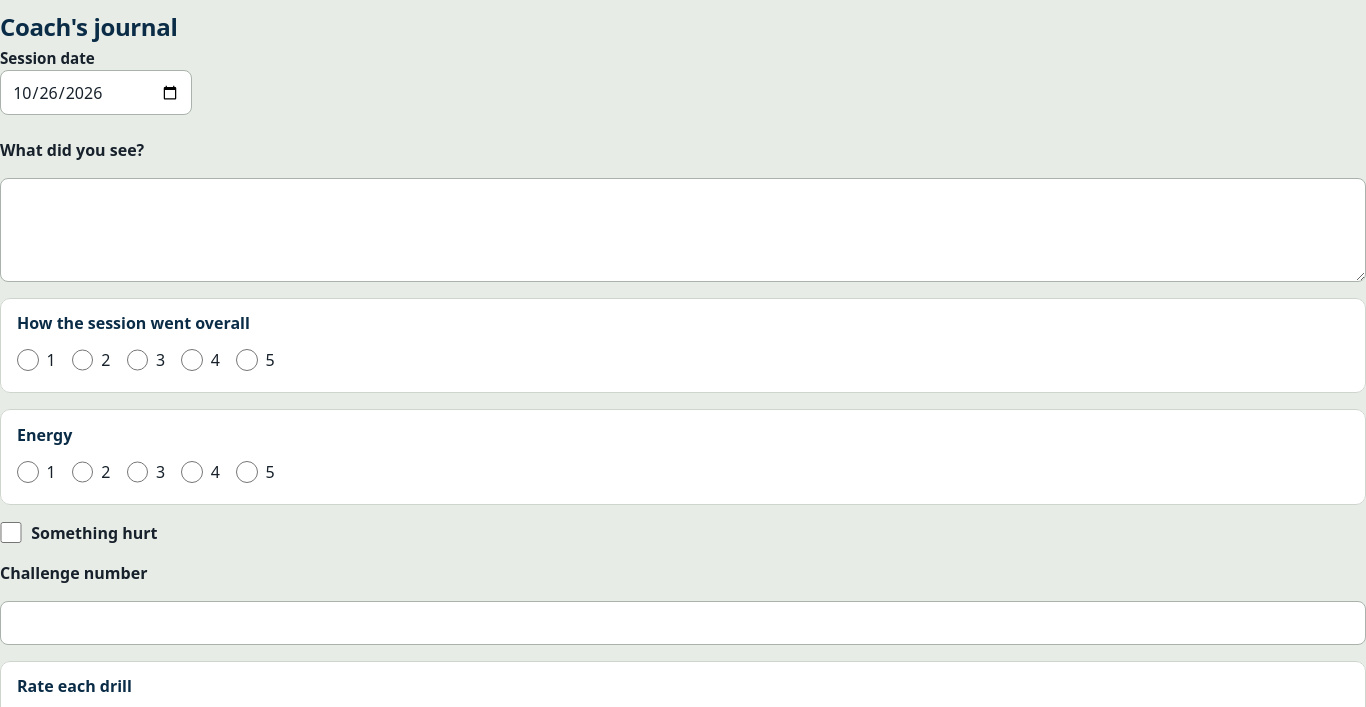
it: the coach's journal › the drills it asks him to rate › keeps a drill he has already rated even when that day's card has dropped it
Type "2026-09-18" into the date field labelled "Session date" at (96, 93), box 0,70 -> 192,115
(page scrolled)
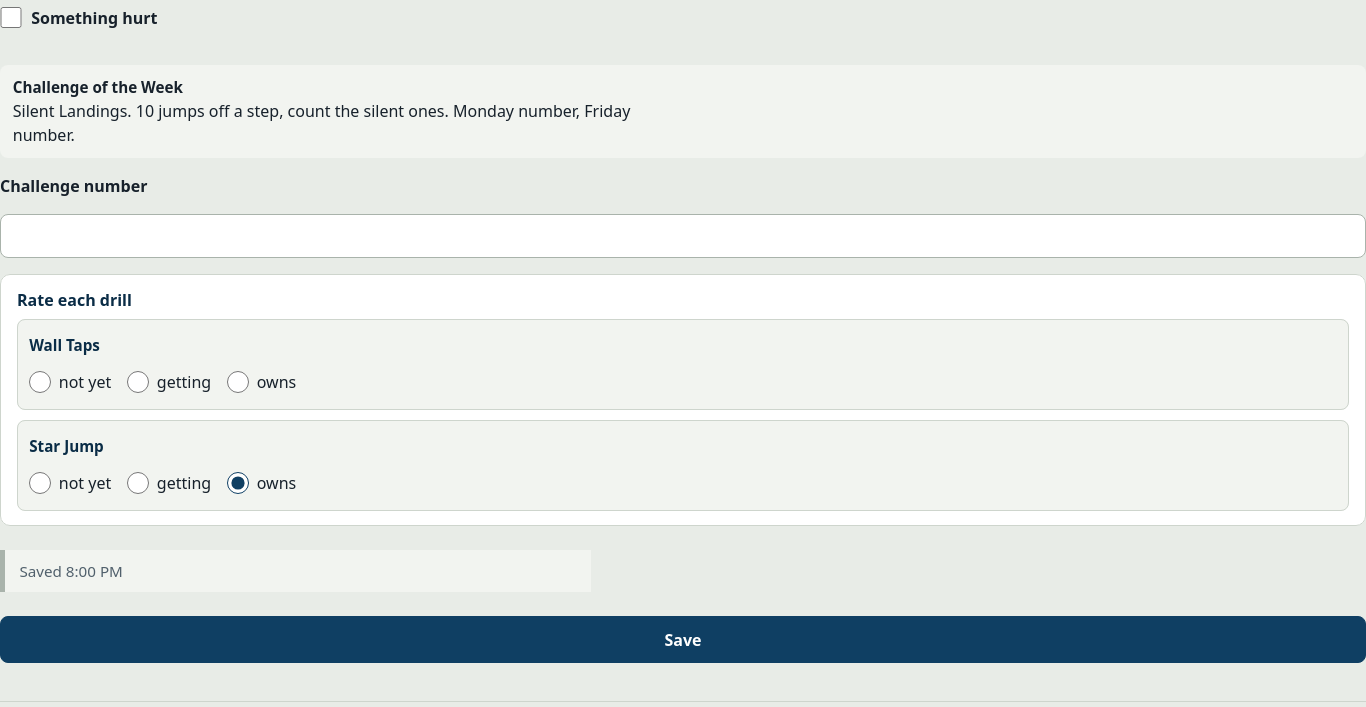
Result: the radio button labelled "owns" below "Star Jump" is checked at 227,472 -> 249,494
